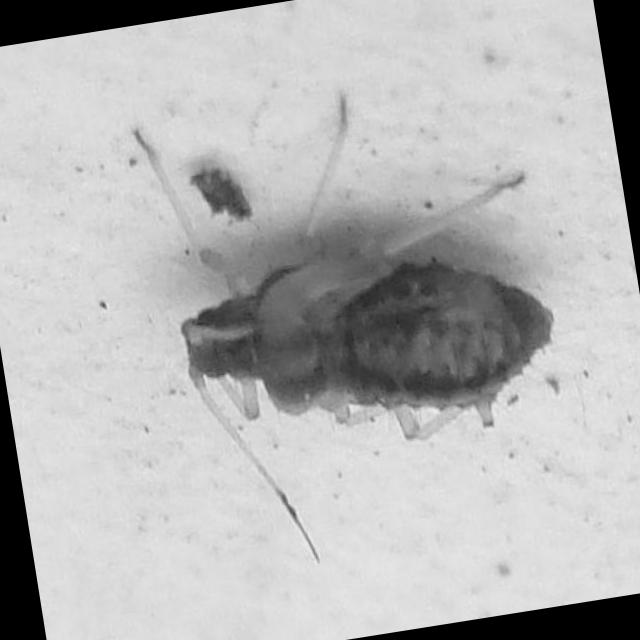Aphids: (109, 66, 593, 532)
